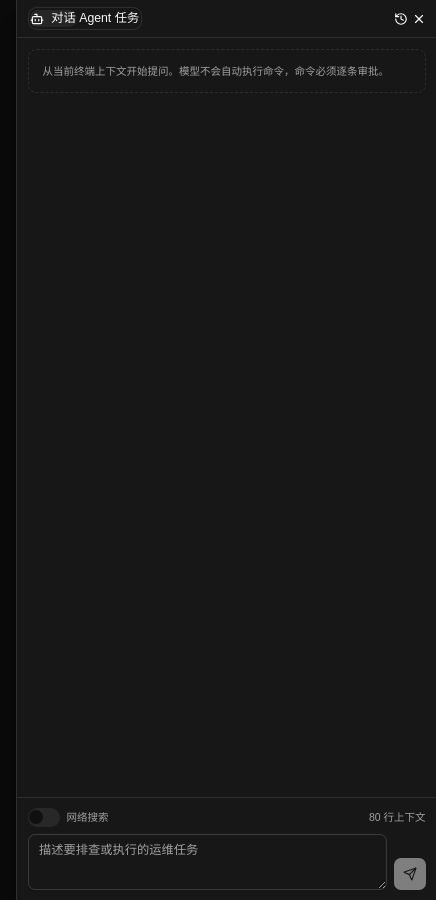
AITerminalPanel cross-panel conversations › reloads active messages when the conversation catalog refresh fails
Click the button named "对话历史": {"x": 401, "y": 18} [394, 12, 408, 26]
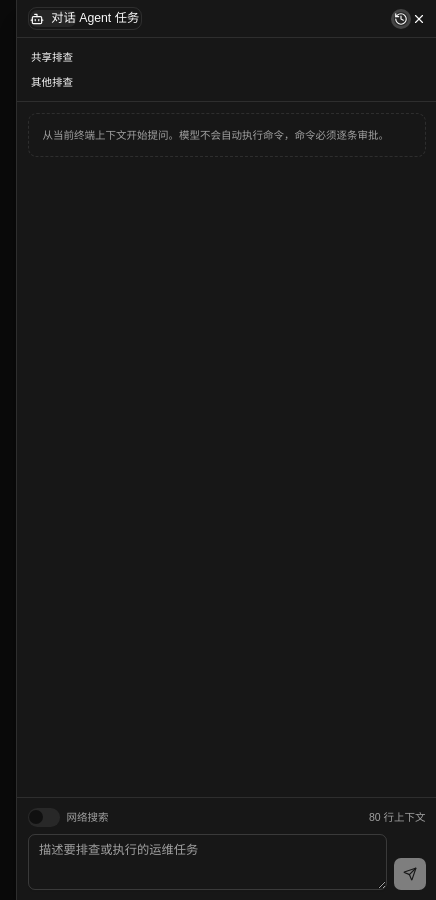
Click the button "共享排查": {"x": 52, "y": 57} [24, 45, 429, 70]
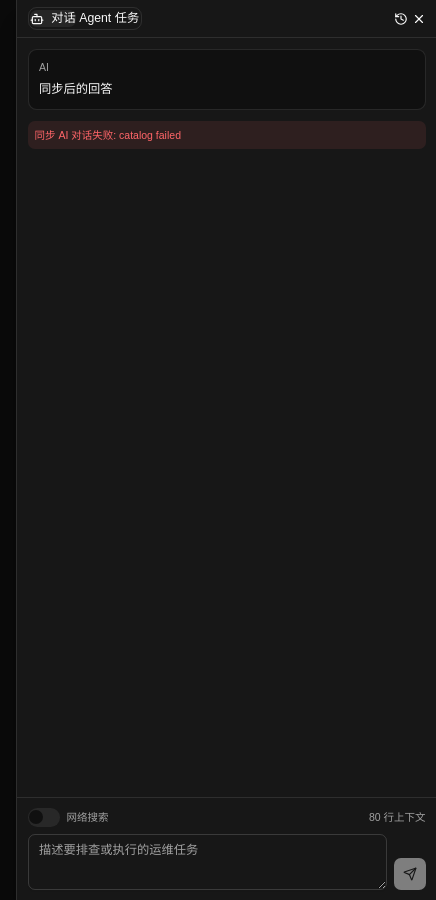
Result: the text "同步后的回答" is shown at [39, 82, 112, 96]
Result: the text "同步 AI 对话失败: catalog failed" is shown at [28, 120, 426, 148]
